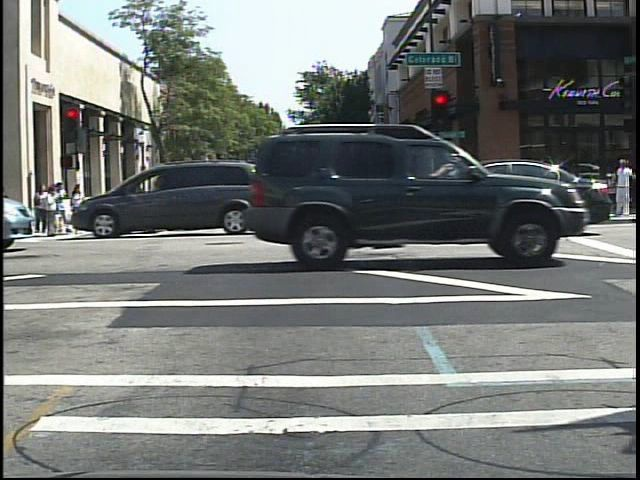person: (611, 154, 637, 220), (165, 181, 183, 221)
